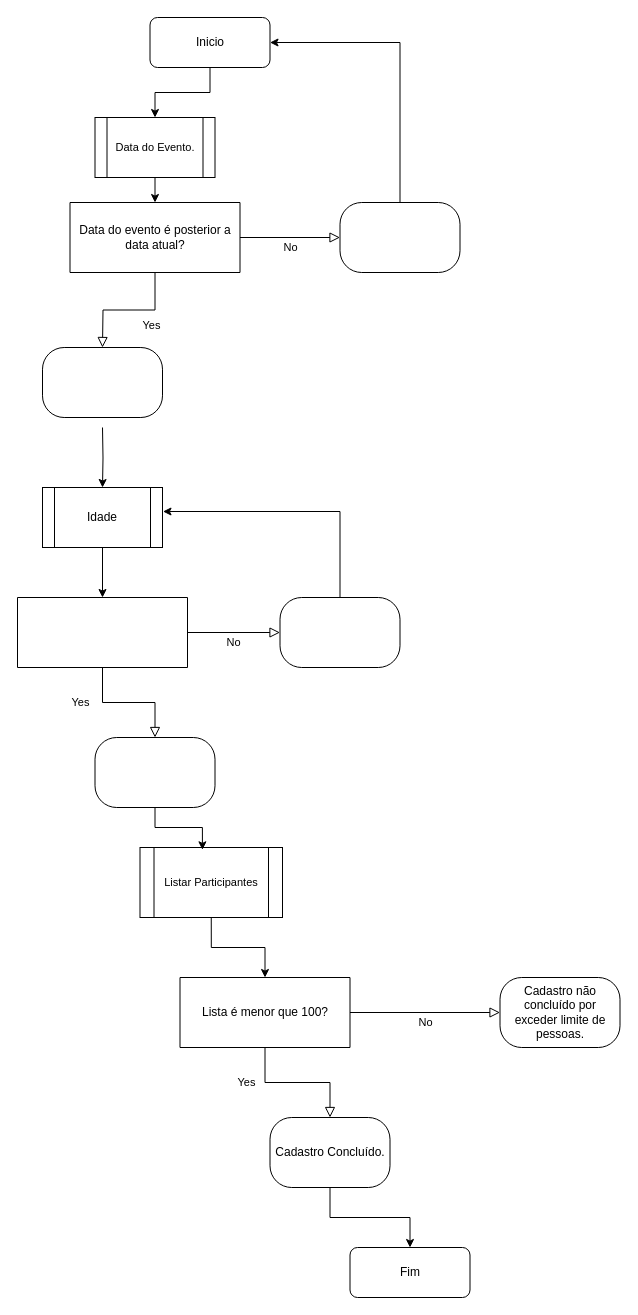
The diagram is 638 pixels wide and 1315 high, and some of its shapes have lost their labels. The shapes that lost their labels are listed below. From the top down, each one's centre as x and y in pixels, then its label:
pixel 399 237: Cadastro não permitido por data invalida. Tente novamente.
pixel 102 382: Cadastro de evento permitido.
pixel 102 632: Idade maior que 18 anos?
pixel 339 632: Idade não permitida. Tente novamente.
pixel 154 772: Idade mínima ok. Pode continuar o cadastro
